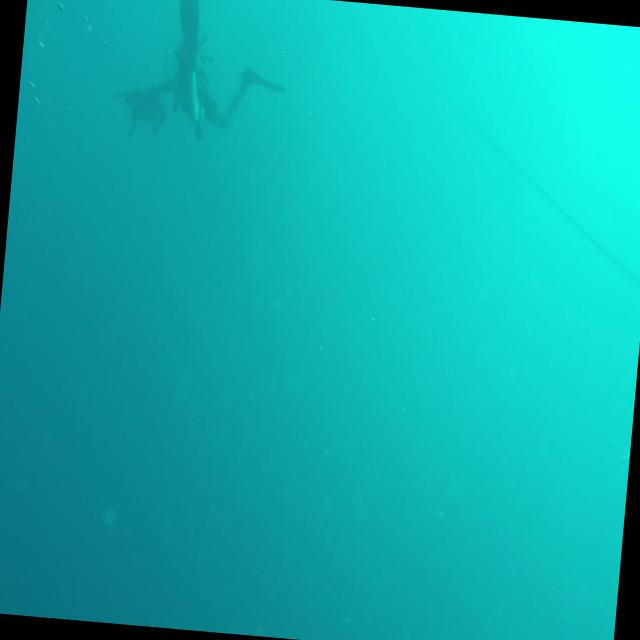human: (110, 0, 293, 149)
